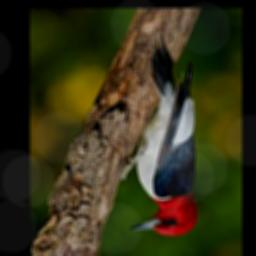Woodpecker: (115, 31, 204, 235)
